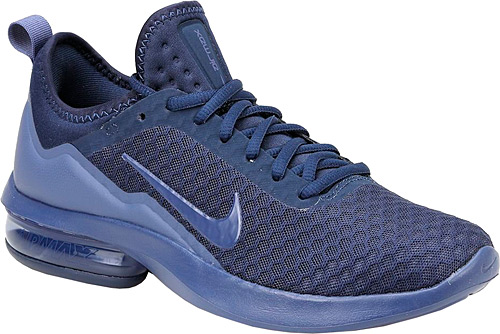nike: (119, 148, 244, 254)
